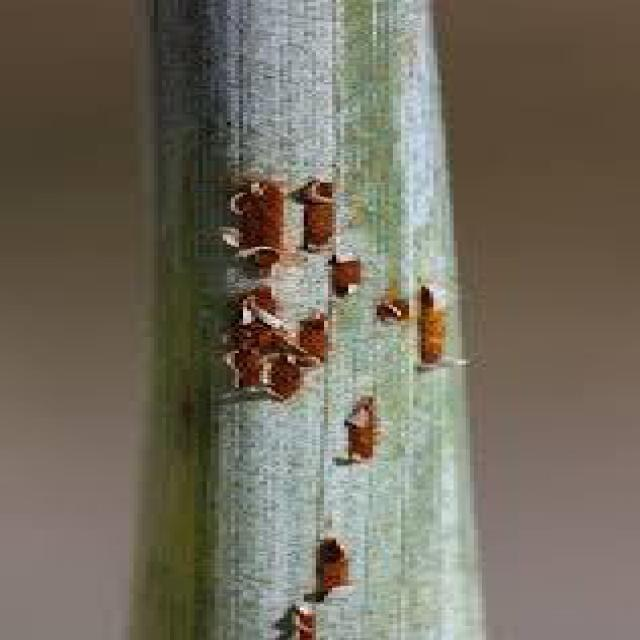wheat-stemrust: (162, 0, 486, 640)
